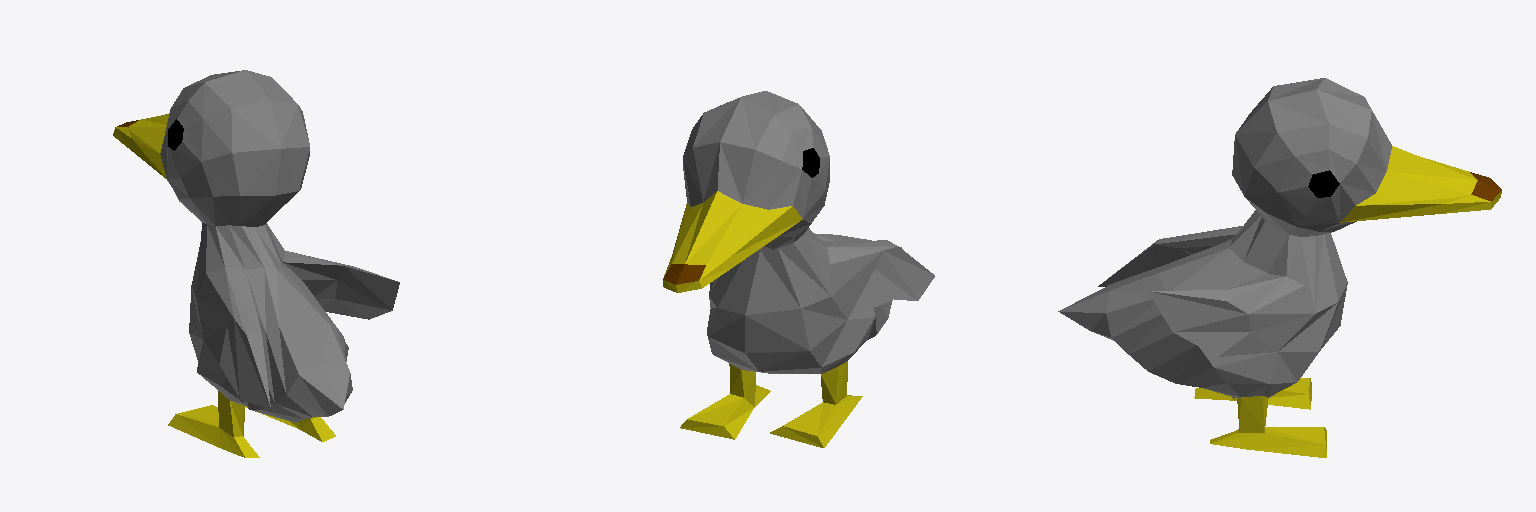
File: npc_duck.obj
The picture shows the model from 3 angles: view 1: azimuth 30°, elevation 25°; view 2: azimuth 150°, elevation 25°; view 3: azimuth 270°, elevation 25°; orthographic projection.
Visible parts, largest first — view 1: Duck; view 2: Duck; view 3: Duck.
Part boxes in pixels (left/top/right/bottom): Duck: left=113, top=70, right=399, bottom=457; Duck: left=663, top=91, right=934, bottom=447; Duck: left=1058, top=78, right=1501, bottom=457.
Size of the model in its own units: 1.9 by 3.73 by 4.4.